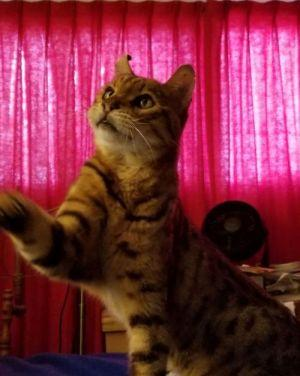bengal: (82, 49, 203, 154)
